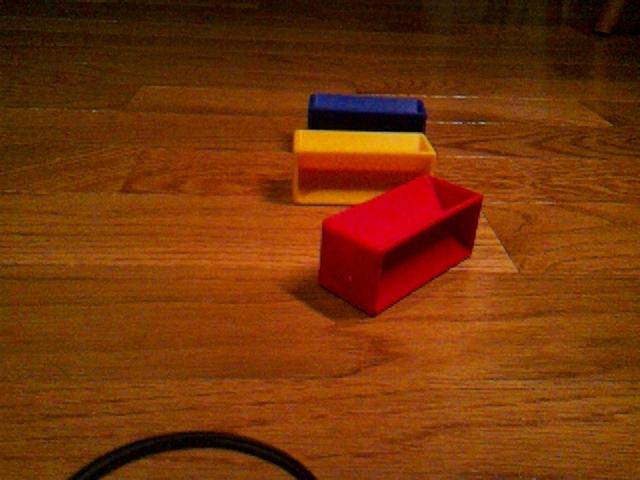blue: (307, 91, 429, 133)
red: (317, 173, 484, 318)
yellow: (291, 128, 437, 206)
